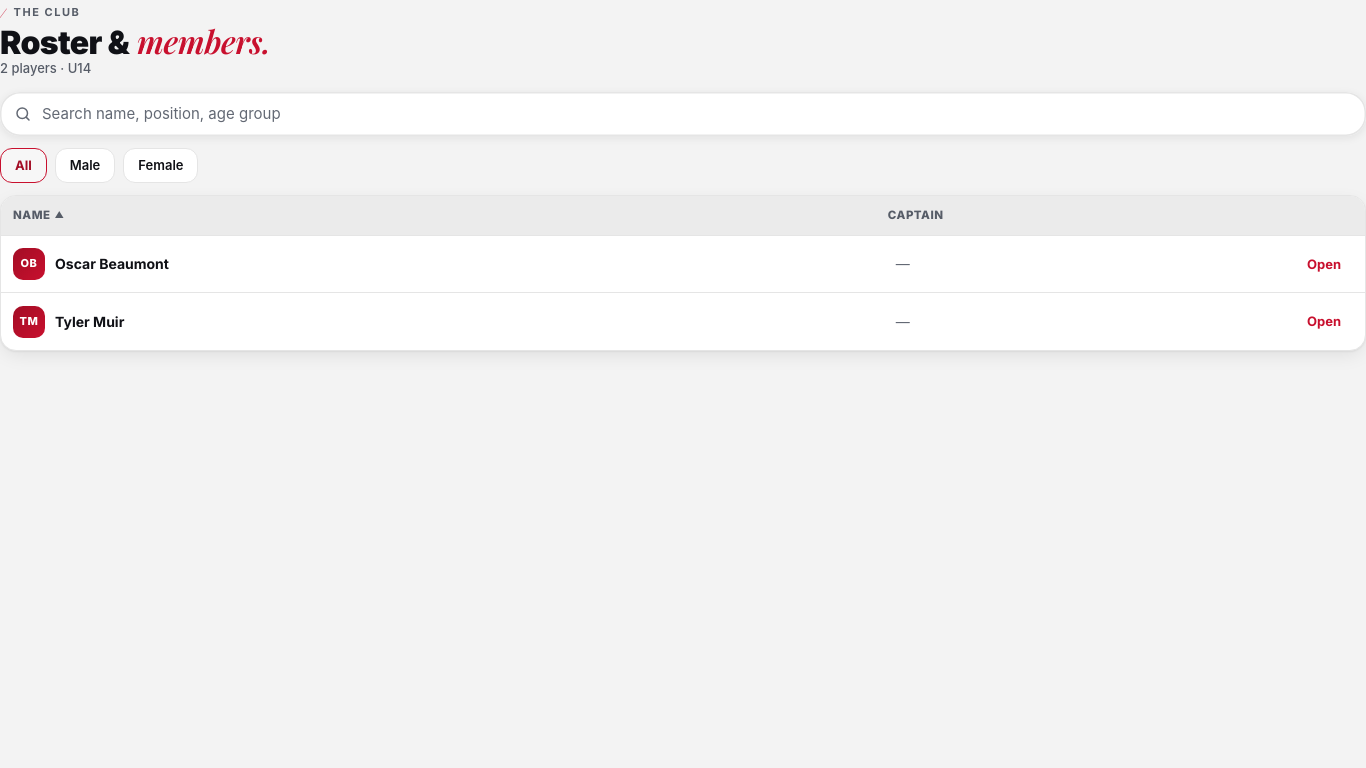
Test: Self-service profile editing › never renders the club-controlled fields in the self-service form
The image size is (1366, 768).
Click the button "TM Tyler Muir": (69, 322) [13,306,124,338]
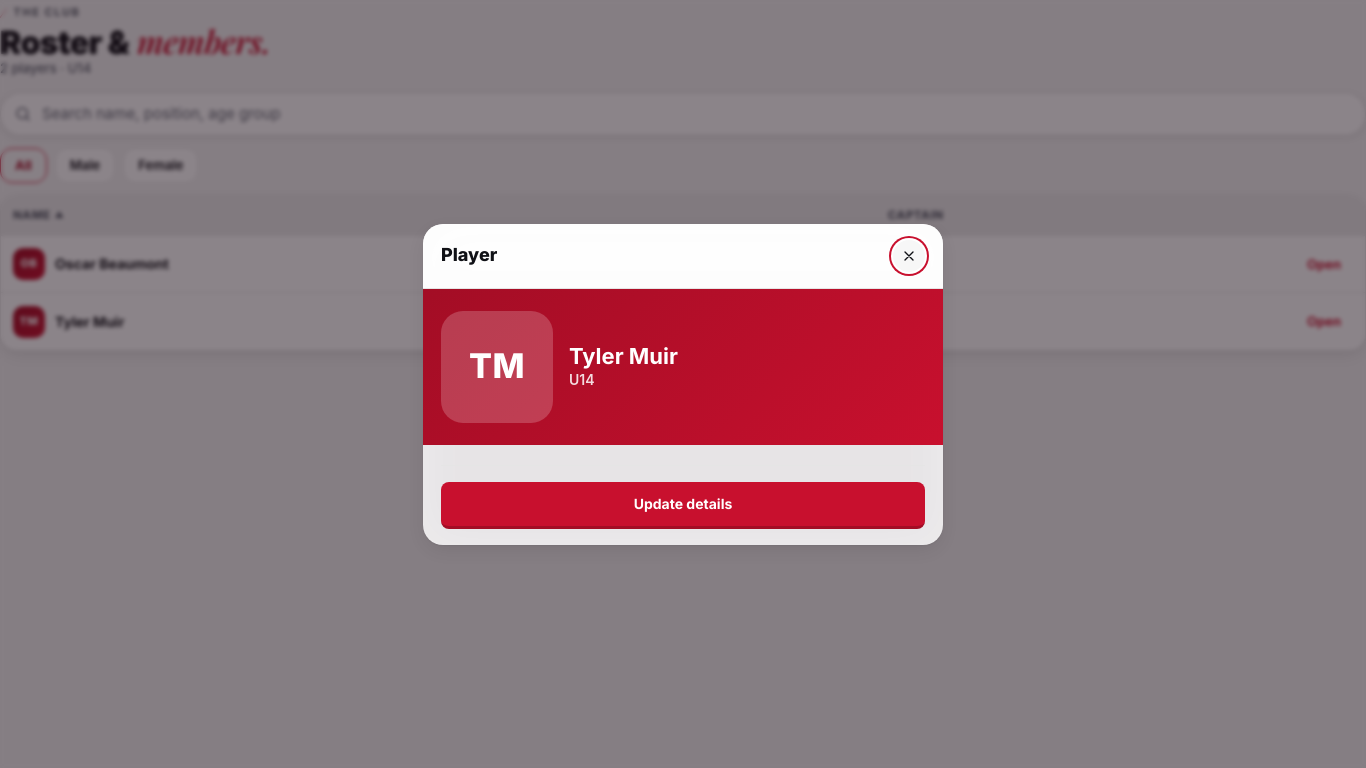
Result: the dialog is shown at [423,224,943,544]
Click the button "Update details": (683, 505) [441,482,925,528]
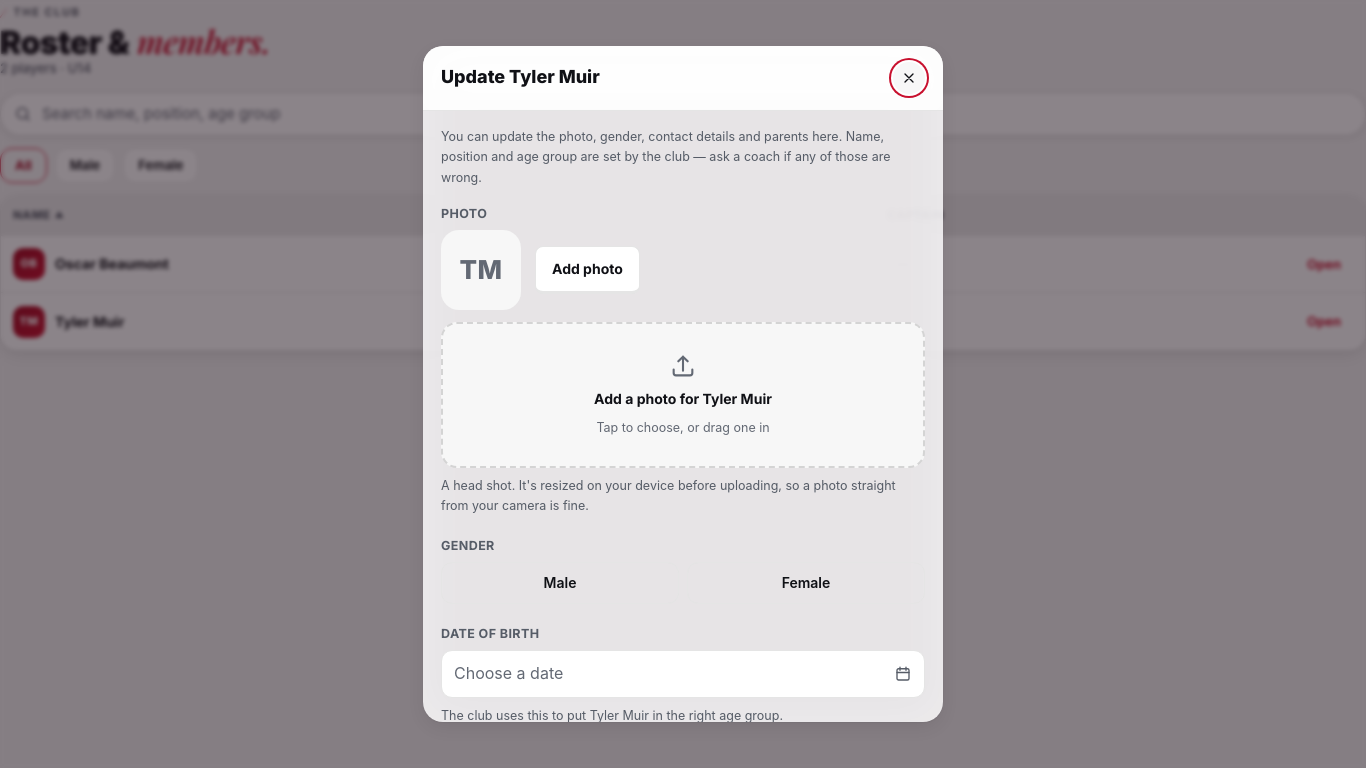
Result: the text "set by the club" is shown at [441,129,890,185]
